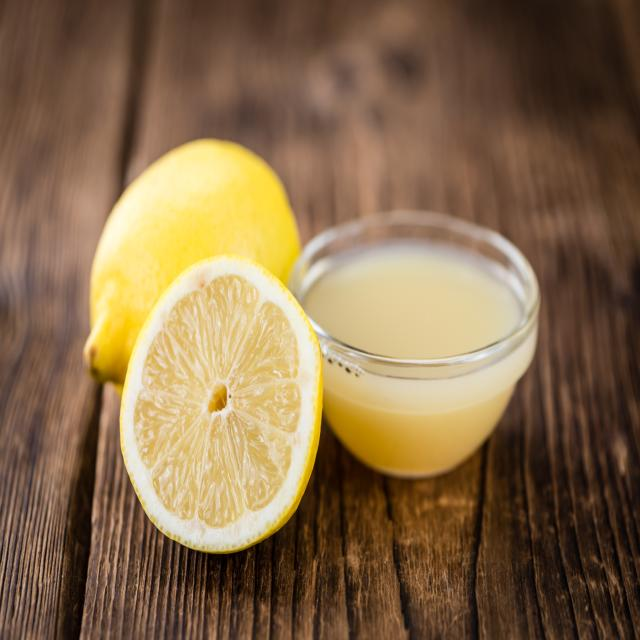lemon: (79, 134, 317, 397), (120, 256, 322, 550)
